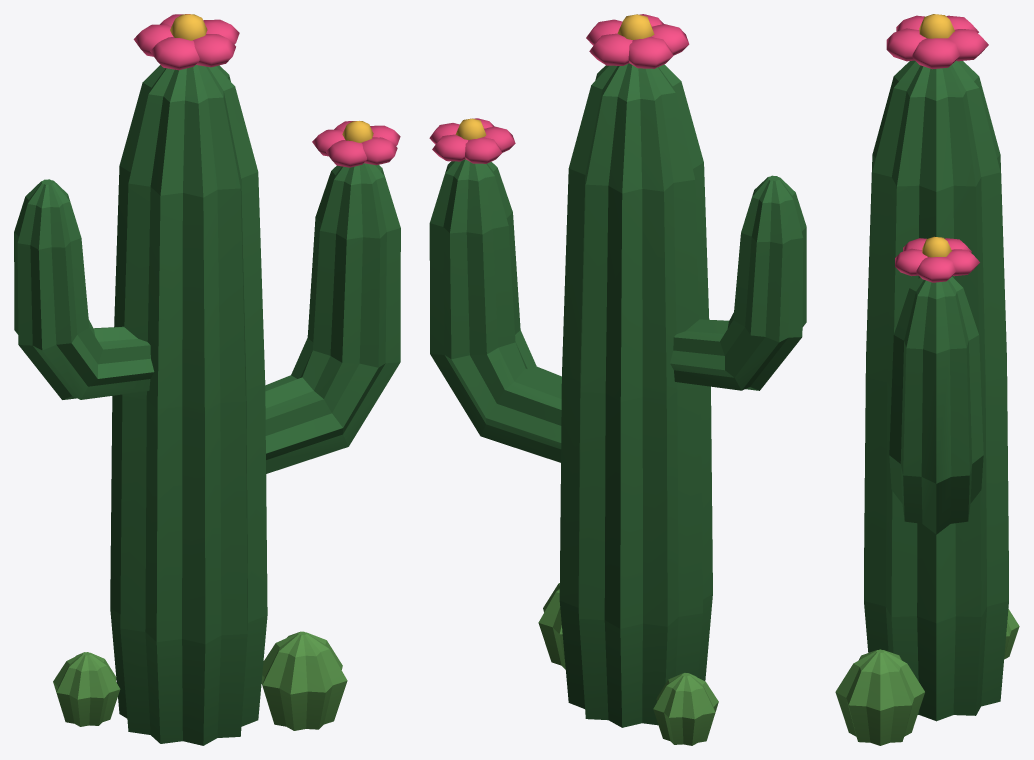
Rendered from desert_cactus.glb.
3 views of the same model, side by side, from view 1: azimuth 30°, elevation 25°; view 2: azimuth 150°, elevation 25°; view 3: azimuth 270°, elevation 25° (orthographic). The views are drawn at different scales.
Visible parts, largest first — view 1: D_Cactus__D_green, D_Cactus__D_greenl, D_Cactus__D_pink, D_Cactus__D_gold; view 2: D_Cactus__D_green, D_Cactus__D_pink, D_Cactus__D_greenl, D_Cactus__D_gold; view 3: D_Cactus__D_green, D_Cactus__D_greenl, D_Cactus__D_pink, D_Cactus__D_gold.
Part boxes in pixels (x1=…): D_Cactus__D_green: x1=14, y1=65, x2=400, y2=745; D_Cactus__D_greenl: x1=53, y1=631, x2=347, y2=730; D_Cactus__D_pink: x1=133, y1=14, x2=400, y2=167; D_Cactus__D_gold: x1=170, y1=14, x2=373, y2=142; D_Cactus__D_green: x1=429, y1=63, x2=806, y2=727; D_Cactus__D_pink: x1=429, y1=14, x2=689, y2=163; D_Cactus__D_greenl: x1=538, y1=583, x2=718, y2=745; D_Cactus__D_gold: x1=455, y1=14, x2=654, y2=139; D_Cactus__D_green: x1=864, y1=60, x2=1008, y2=721; D_Cactus__D_greenl: x1=835, y1=609, x2=1019, y2=745; D_Cactus__D_pink: x1=886, y1=15, x2=988, y2=282; D_Cactus__D_gold: x1=919, y1=14, x2=954, y2=257.
Bounding box in the file's own units: 1.89 × 3.33 × 0.82.
